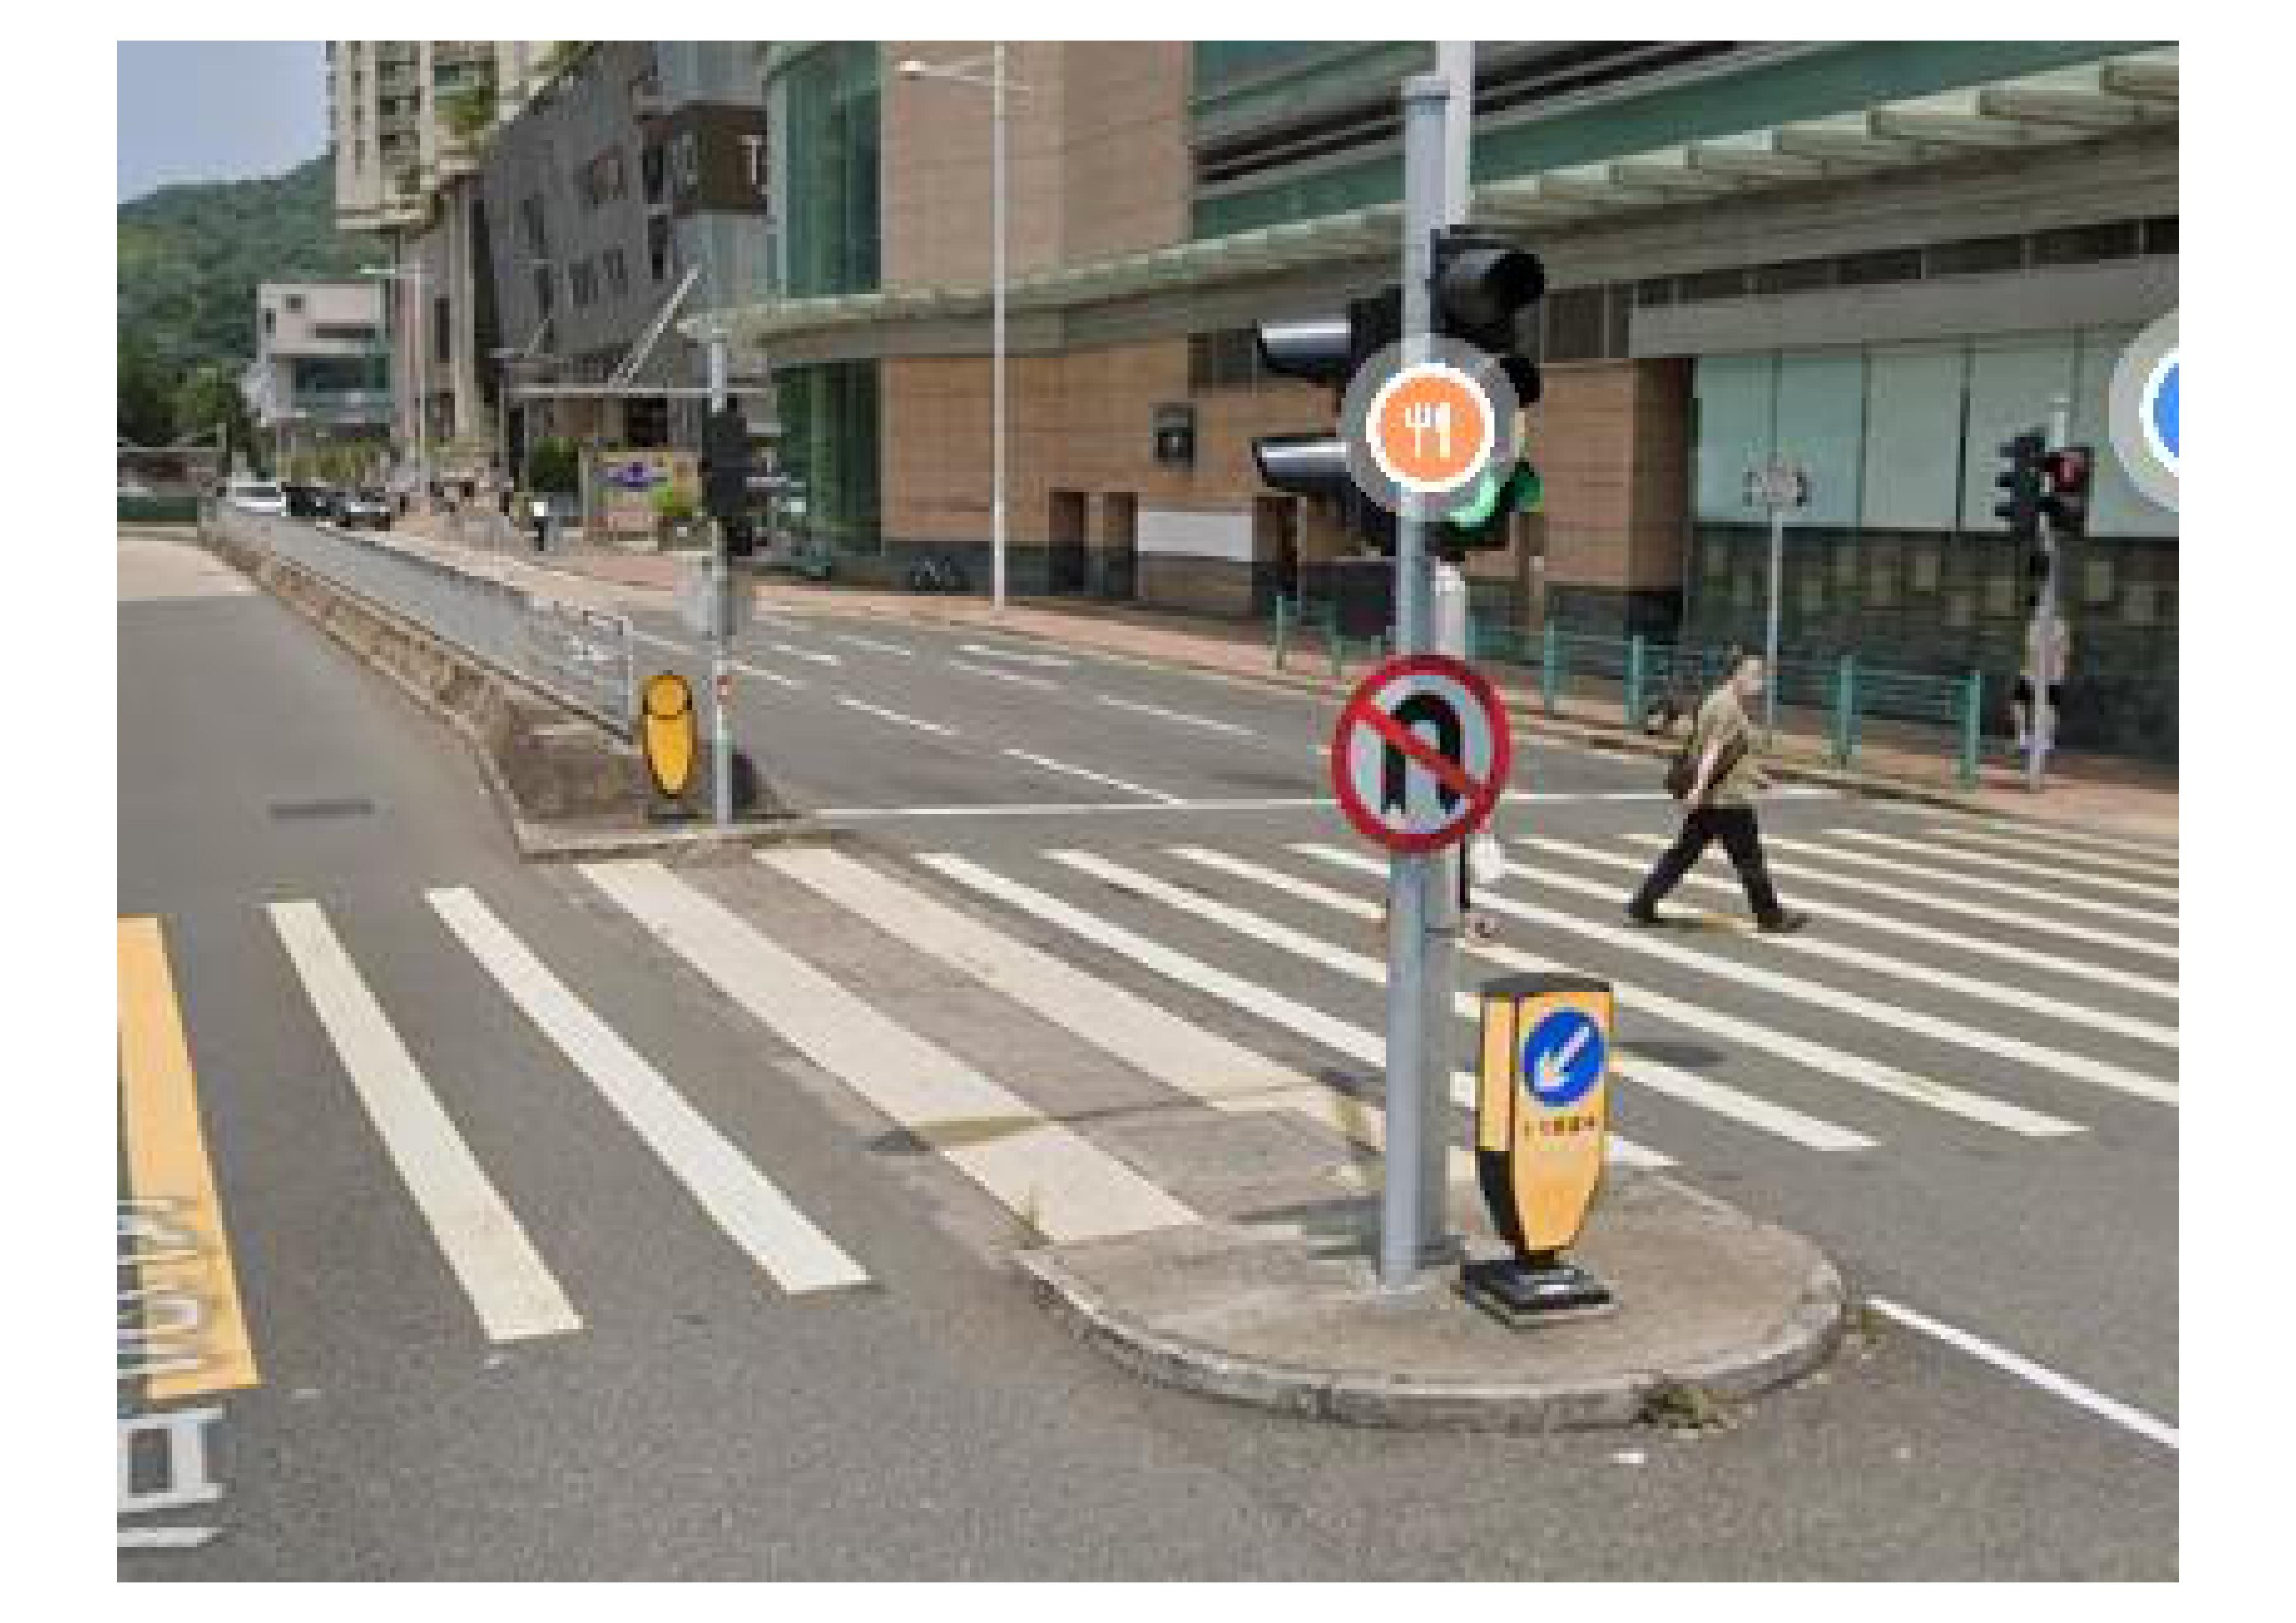No Uturn: (1317, 643, 1525, 850)
